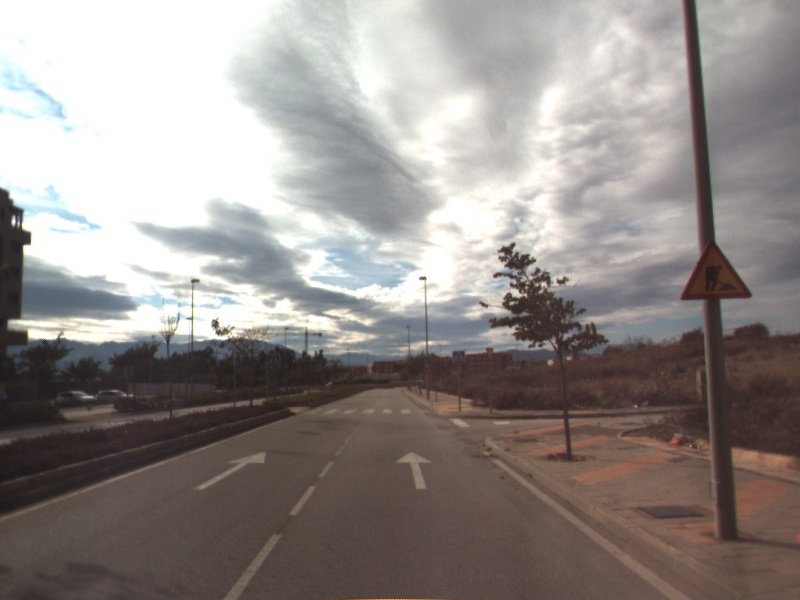STRAIGHT: (190, 449, 268, 492), (393, 449, 435, 491)
